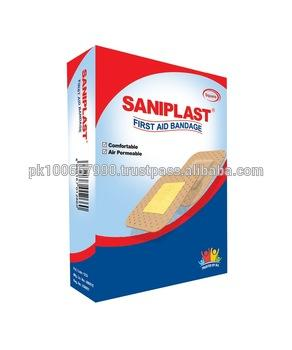bandage: (122, 168, 198, 237), (178, 152, 222, 210)
